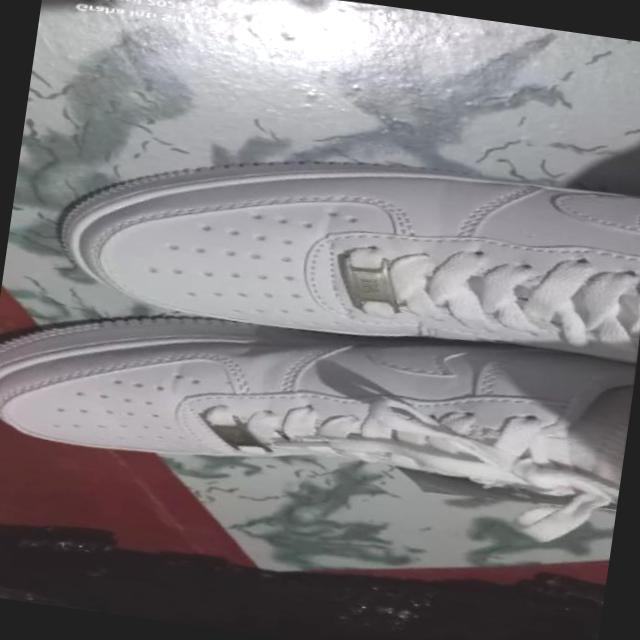nike_fake_airforce: (43, 113, 640, 382), (0, 277, 636, 524)
